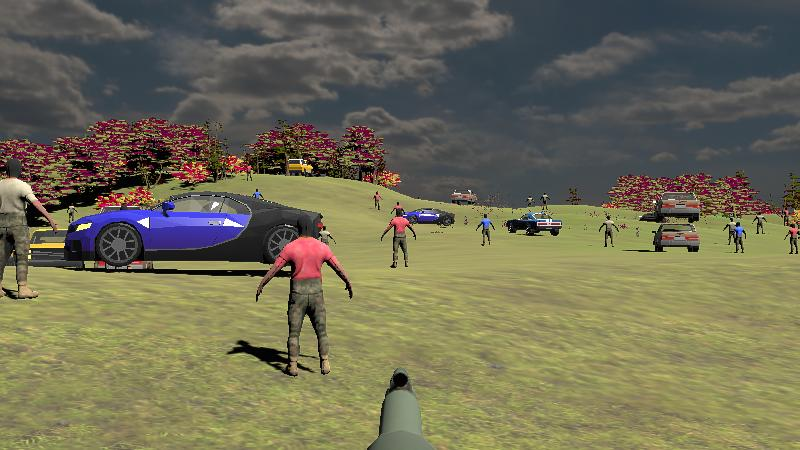Human: (255, 212, 353, 379), (381, 208, 417, 268), (476, 212, 495, 247), (784, 223, 800, 255)
car: (63, 191, 329, 271), (653, 218, 700, 253), (654, 191, 700, 222), (506, 212, 562, 237), (403, 207, 455, 227), (285, 157, 312, 178), (450, 189, 478, 205)
